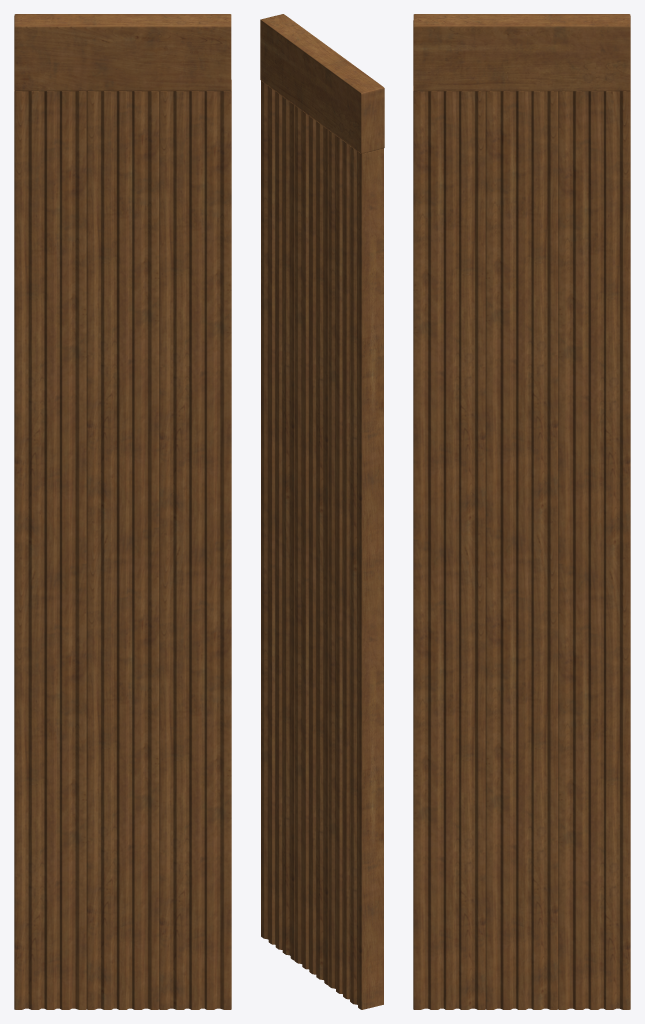
File: SM_Office_wall01o.fbx
The picture shows the model from 3 angles, left to right: view 1: azimuth 90°, elevation 25°; view 2: azimuth 210°, elevation 25°; view 3: azimuth 270°, elevation 25°; orthographic projection. The views are drawn at different scales.
Parts seen in each view (by area): view 1: SM_Office_wall01o_LOD0; view 2: SM_Office_wall01o_LOD0; view 3: SM_Office_wall01o_LOD0.
Part boxes in pixels (x1,y1,x2,y2): SM_Office_wall01o_LOD0: (14,14,231,1009); SM_Office_wall01o_LOD0: (260,14,384,1009); SM_Office_wall01o_LOD0: (413,14,630,1009).
Bounding box in the file's own units: 20.27 × 150 × 750.
